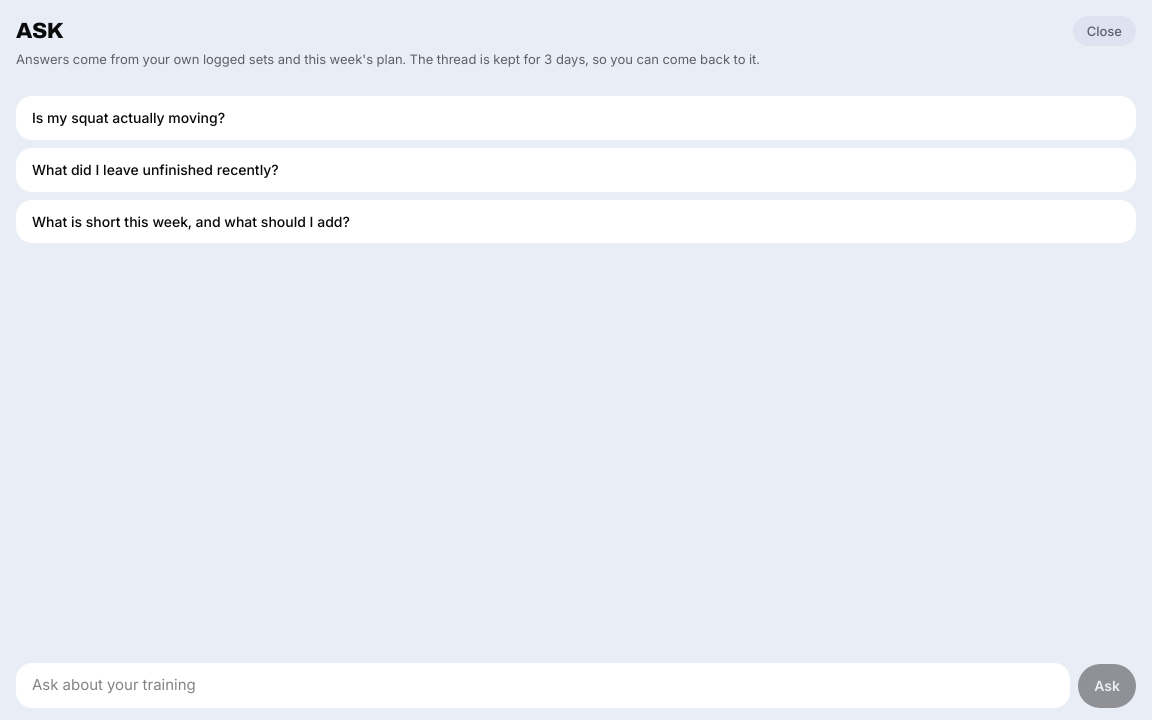
an answer arriving a piece at a time › says what it is doing before there is anything to read
Click the button "Is my squat actually moving?".
click(129, 118)  # box [16, 96, 1136, 140]
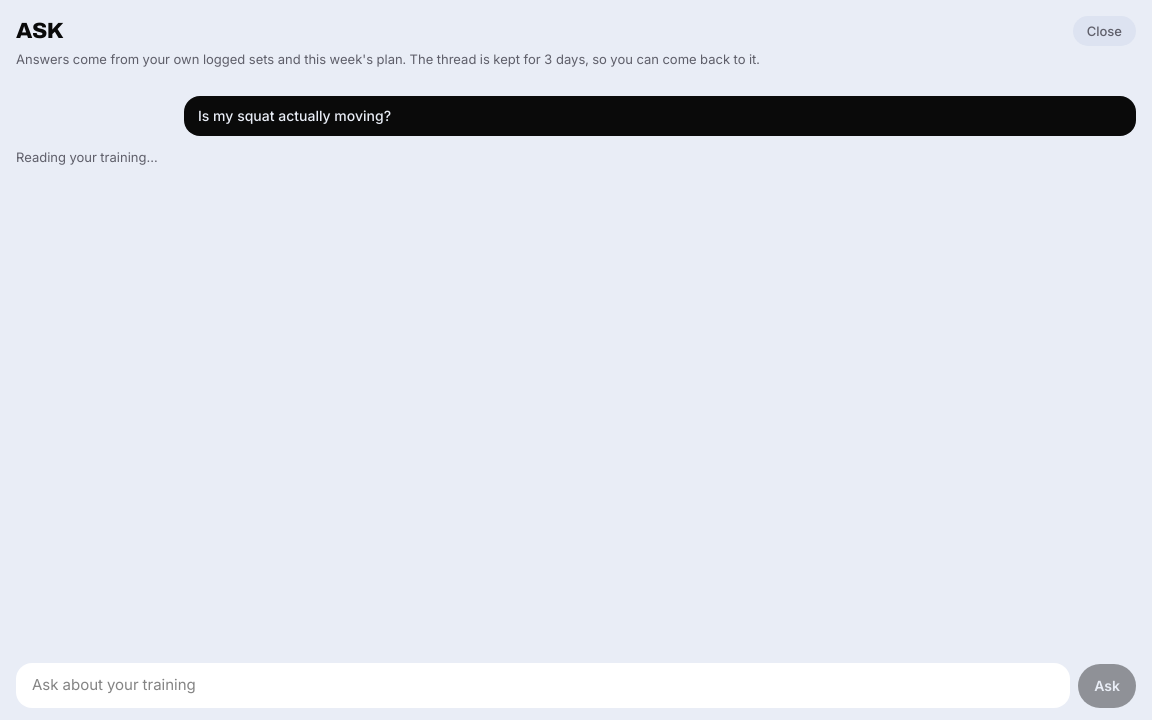
Now the message shows "Reading your", box [16, 149, 158, 165]
